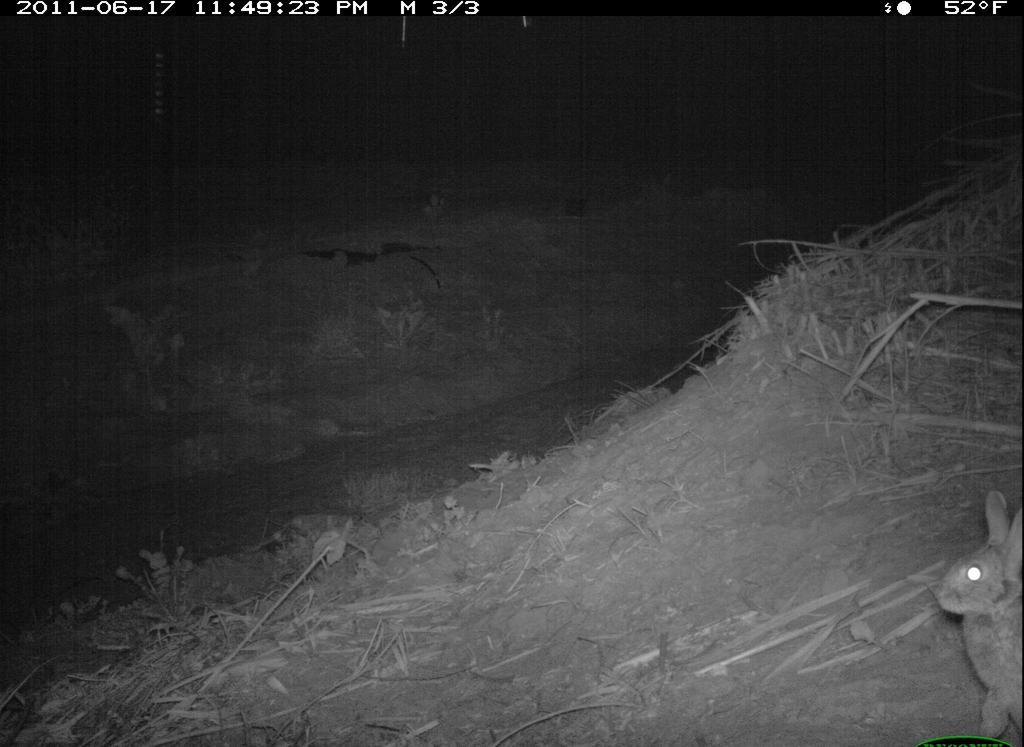rabbit: (916, 482, 1023, 742)
